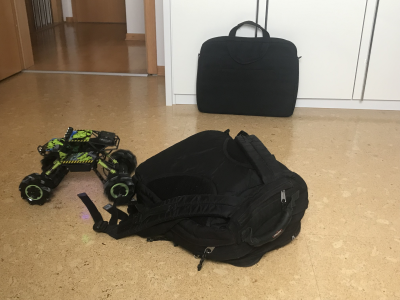remote control car: (17, 126, 138, 207)
